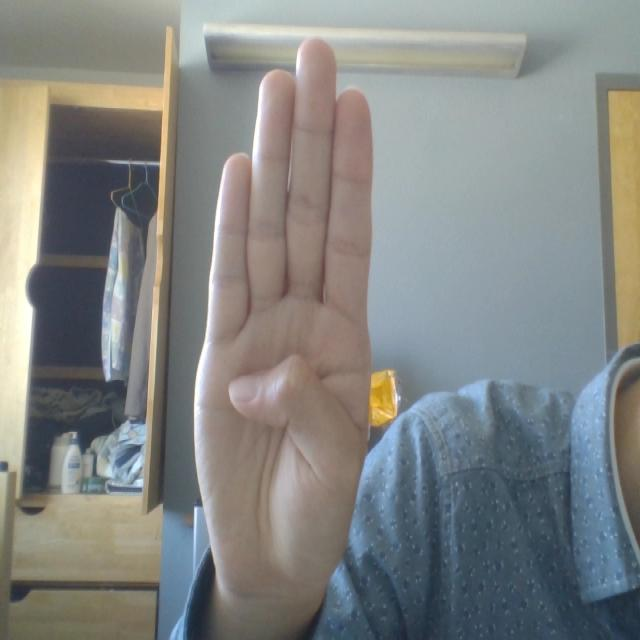B: (173, 9, 442, 614)
